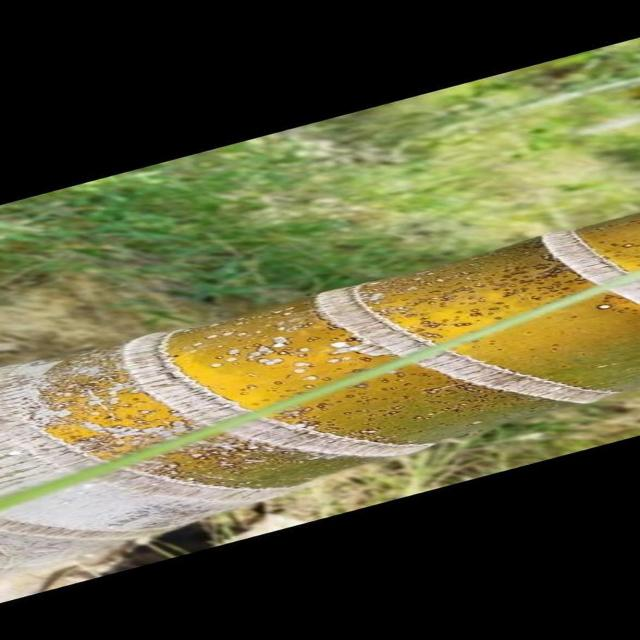Healthy_Trunk: (134, 247, 557, 449)
